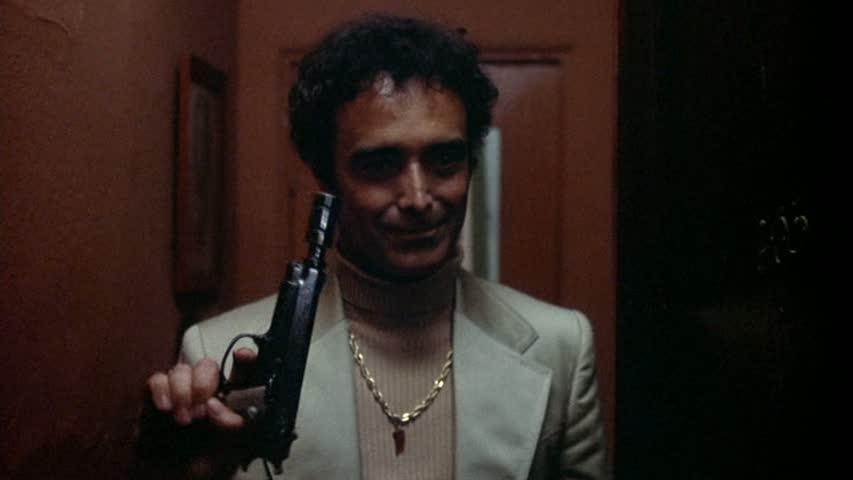gun: (144, 189, 342, 472)
